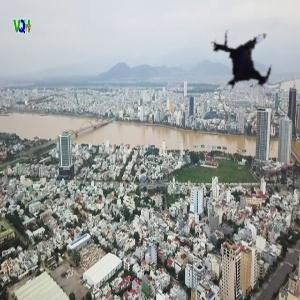drone: (206, 18, 293, 105)
